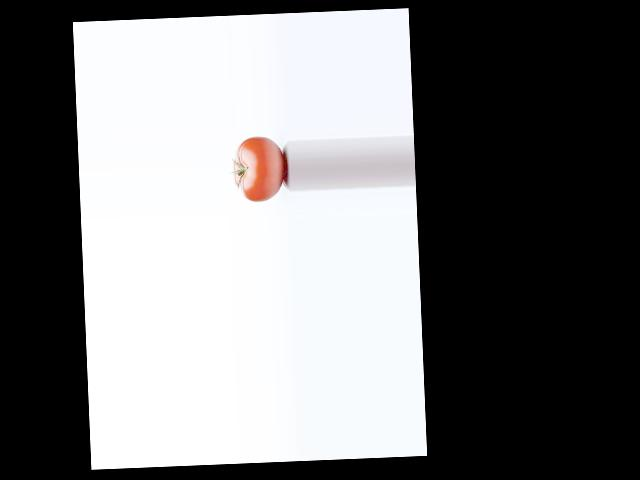tomato: (232, 135, 285, 202)
